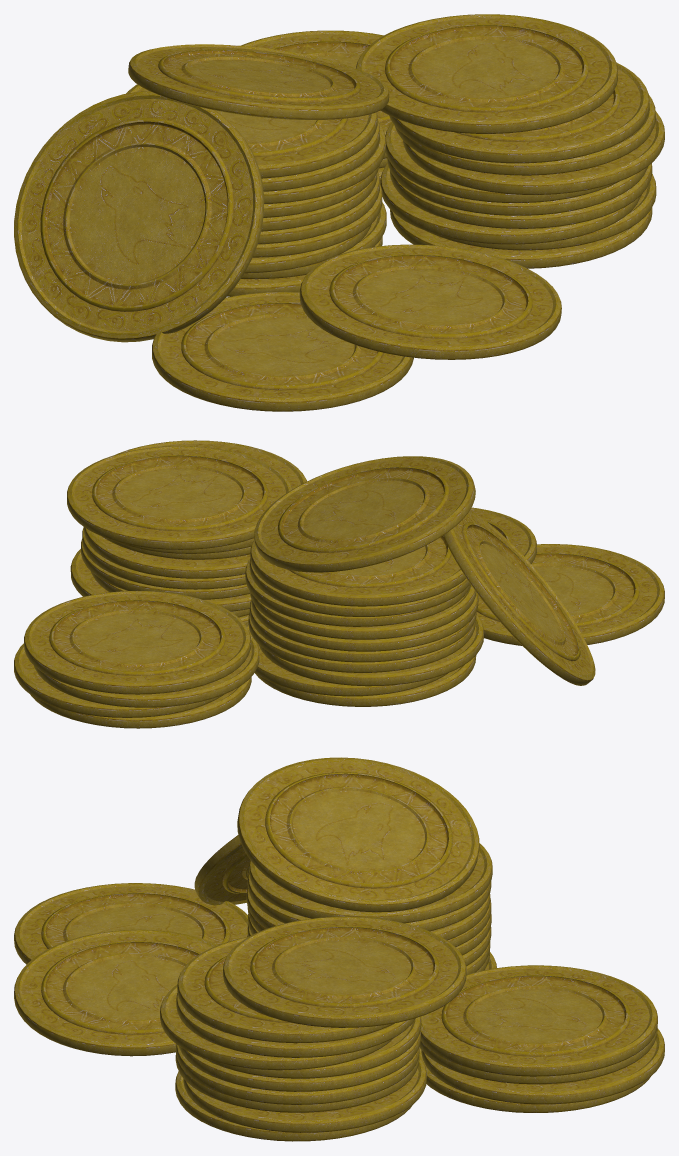
Rendered from WolfCoins.fbx.
3 views of the same model, one above another, from view 1: azimuth 30°, elevation 25°; view 2: azimuth 150°, elevation 25°; view 3: azimuth 270°, elevation 25° (orthographic). The views are drawn at different scales.
Visible parts, largest first — view 1: Coin12, Coin13, Coin1, Coin, Coin23, Coin14, Coin11, Coin16, Coin19, Coin22, Coin18, Coin15 (+13 smaller); view 2: Coin27, Coin23, Coin13, Coin12, Coin, Coin11, Coin26, Coin4, Coin17, Coin8, Coin25, Coin7 (+15 smaller); view 3: Coin23, Coin13, Coin27, Coin1, Coin, Coin14, Coin21, Coin25, Coin11, Coin16, Coin15, Coin18 (+10 smaller).
Part boxes in pixels (x1,y1,x2,y2): Coin12: (14,91,264,342); Coin13: (356,14,617,133); Coin1: (299,244,561,359); Coin: (152,292,413,411); Coin23: (128,44,389,119); Coin14: (389,62,649,163); Coin11: (126,84,377,178); Coin16: (403,111,664,194); Coin19: (380,163,641,244); Coin22: (390,207,652,268); Coin18: (390,163,652,228); Coin15: (394,95,655,175); Coin27: (24,590,250,694); Coin23: (254,456,475,572); Coin13: (67,446,292,549); Coin12: (443,510,595,685); Coin: (476,544,664,645); Coin11: (250,536,466,606); Coin26: (34,634,259,707); Coin4: (258,615,483,686); Coin17: (84,527,250,578); Coin8: (249,585,476,639); Coin25: (14,643,223,717); Coin7: (251,592,478,651); Coin23: (237,757,479,912); Coin13: (223,916,466,1027); Coin27: (420,965,657,1076); Coin1: (14,929,218,1056); Coin: (14,883,248,964); Coin14: (177,936,393,1043); Coin21: (183,1057,426,1132); Coin25: (421,1028,664,1104); Coin11: (249,843,492,923); Coin16: (160,985,393,1070); Coin15: (176,993,415,1057); Coin18: (176,1044,419,1104).
Bounding box in the file's own units: 257 × 84.44 × 265.
